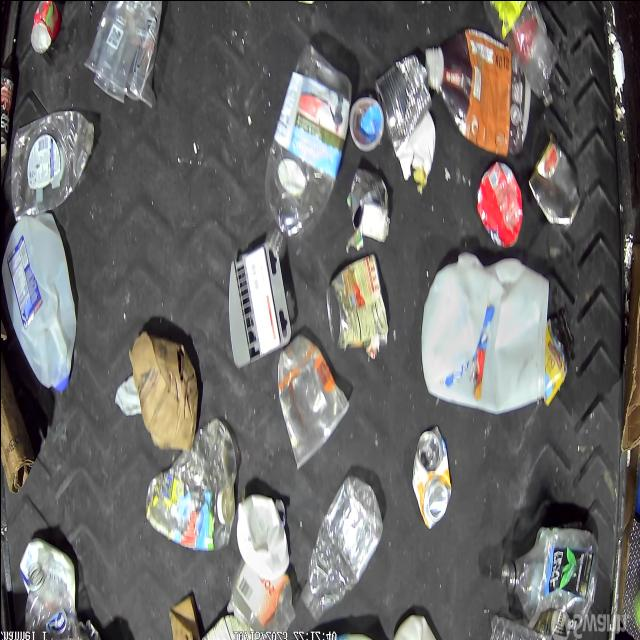can: (377, 56, 432, 164), (328, 256, 388, 351), (527, 132, 581, 234), (411, 426, 453, 528), (348, 165, 390, 241)
milk_jug: (422, 253, 548, 415), (4, 215, 75, 396)
plastic_bottle: (299, 476, 382, 622), (499, 522, 597, 620), (0, 68, 16, 216)
